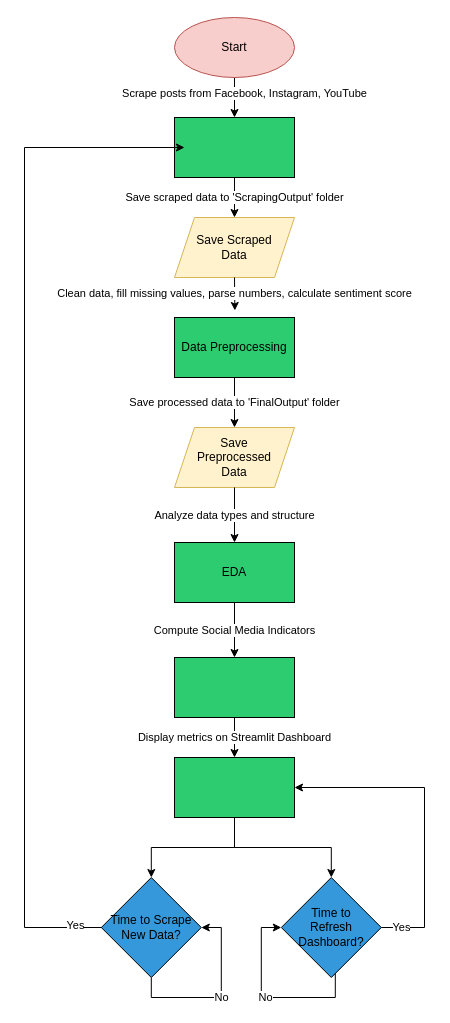
The diagram is 450 pixels wide and 1023 high, and some of its shapes have lost their labels. Here are the shapes that lost their labels. From the top down, the box of each, then its label:
(174, 116, 294, 178): Data Collection
(174, 656, 294, 718): Indicator Preparation
(174, 756, 294, 818): Dashboard Visualization
